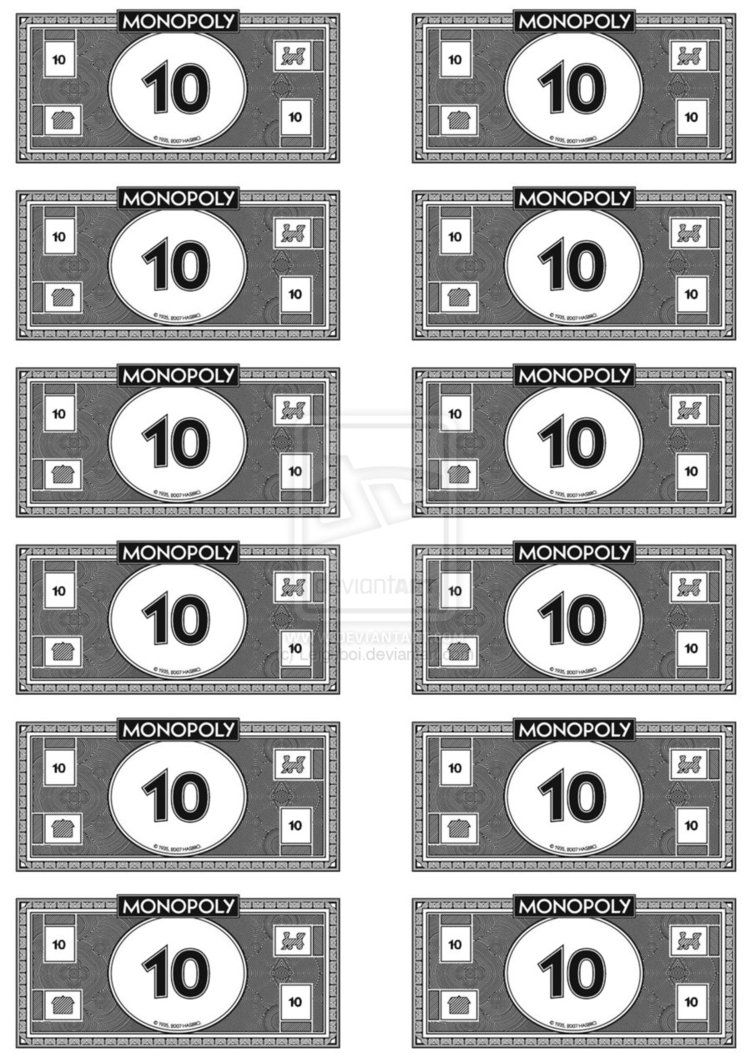$10 dollars: (12, 6, 347, 170), (11, 181, 346, 345), (11, 361, 346, 525), (9, 536, 344, 700), (12, 714, 347, 878), (8, 894, 343, 1058), (407, 5, 742, 169), (405, 184, 740, 348), (403, 356, 738, 520), (405, 536, 740, 700), (405, 715, 740, 879), (407, 888, 742, 1052)
